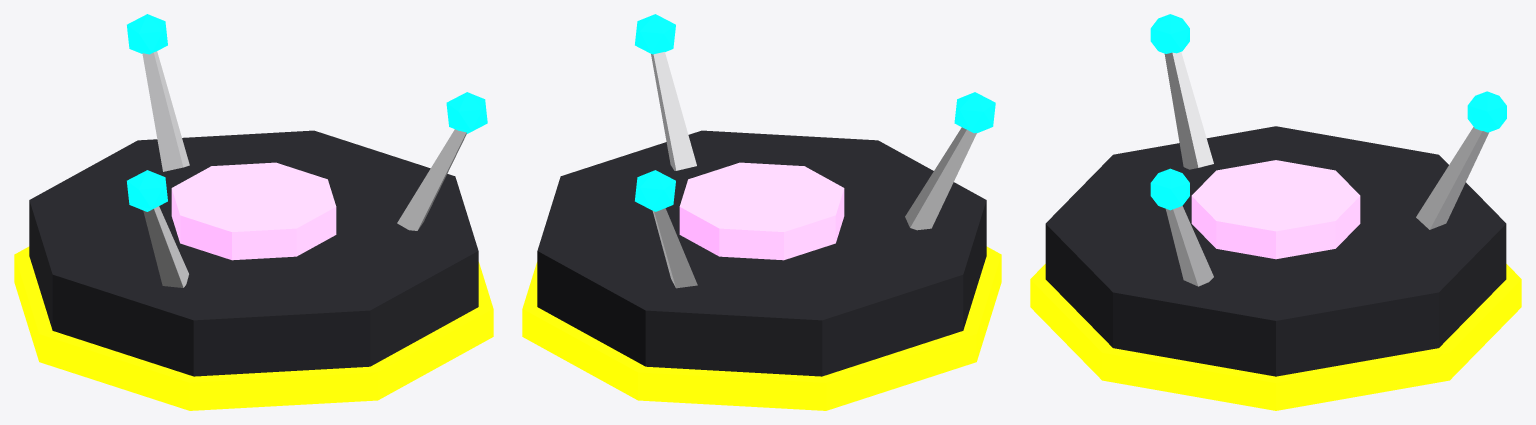
Rendered from Ratline_Mine.fbx.
The picture shows the model from 3 angles, left to right: view 1: azimuth 30°, elevation 25°; view 2: azimuth 150°, elevation 25°; view 3: azimuth 270°, elevation 25°; orthographic projection.
Parts seen in each view (by area): view 1: Mine_Body, Mine_Rim, Mine_Core, Mine_Prong0, Mine_Prong2, Mine_Prong1, Mine_Blink1, Mine_Blink2, Mine_Blink0; view 2: Mine_Body, Mine_Rim, Mine_Core, Mine_Prong1, Mine_Prong2, Mine_Prong0, Mine_Blink0, Mine_Blink1, Mine_Blink2; view 3: Mine_Body, Mine_Rim, Mine_Core, Mine_Prong1, Mine_Prong0, Mine_Prong2, Mine_Blink2, Mine_Blink0, Mine_Blink1.
Part boxes in pixels (x1,y1,x2,y2): Mine_Body: [29, 130, 478, 376]; Mine_Rim: [14, 246, 493, 410]; Mine_Core: [171, 162, 336, 260]; Mine_Prong0: [142, 51, 189, 171]; Mine_Prong2: [397, 129, 466, 230]; Mine_Prong1: [143, 206, 188, 287]; Mine_Blink1: [127, 170, 167, 211]; Mine_Blink2: [446, 92, 487, 133]; Mine_Blink0: [127, 14, 167, 54]; Mine_Body: [537, 130, 986, 376]; Mine_Rim: [522, 246, 1001, 410]; Mine_Core: [679, 162, 844, 260]; Mine_Prong1: [905, 127, 976, 230]; Mine_Prong2: [651, 52, 696, 170]; Mine_Prong0: [652, 208, 697, 288]; Mine_Blink0: [635, 170, 675, 211]; Mine_Blink1: [954, 92, 995, 133]; Mine_Blink2: [635, 14, 675, 54]; Mine_Body: [1045, 126, 1506, 376]; Mine_Rim: [1030, 264, 1521, 410]; Mine_Core: [1191, 160, 1360, 259]; Mine_Prong1: [1164, 52, 1213, 169]; Mine_Prong0: [1416, 127, 1488, 229]; Mine_Prong2: [1165, 206, 1213, 286]; Mine_Blink2: [1150, 168, 1189, 210]; Mine_Blink0: [1467, 91, 1506, 132]; Mine_Blink1: [1150, 14, 1189, 53].
Size of the model in its own units: 0.128 by 0.062 by 0.128.
